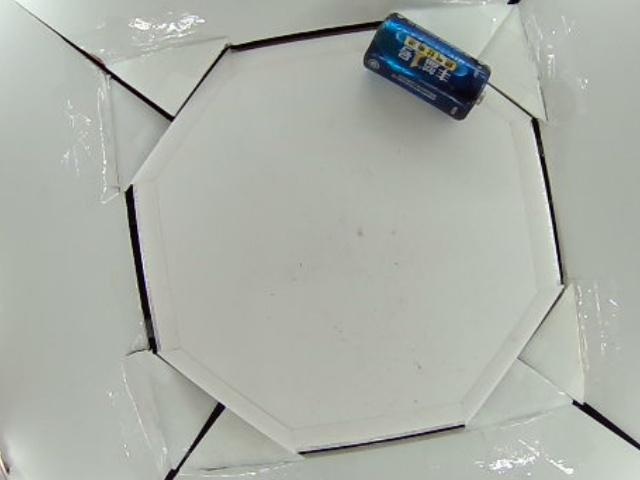Battery: (361, 14, 491, 118)
